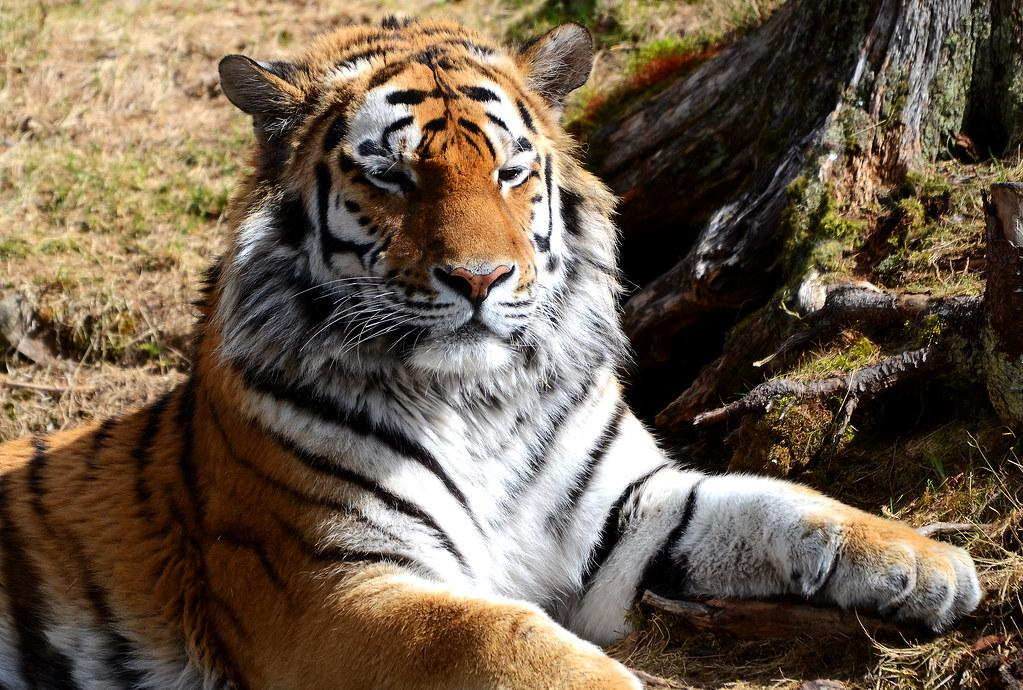tiger: (2, 12, 982, 689)
